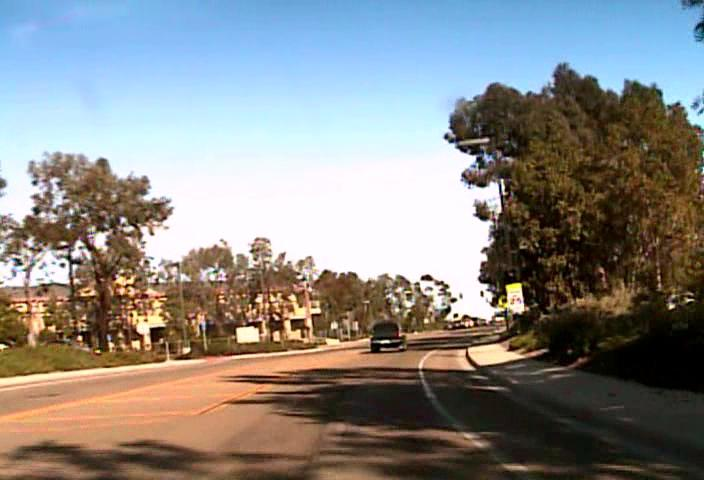schoolSpeedLimit25: (504, 282, 524, 313)
